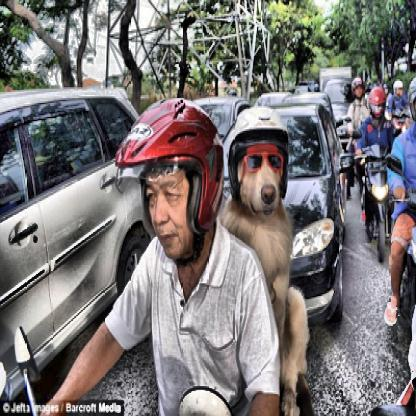wear: (125, 96, 219, 261), (368, 84, 387, 118)
